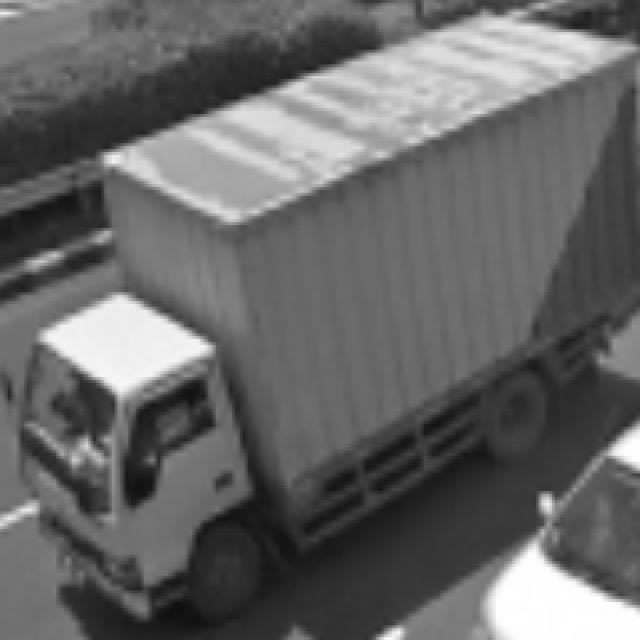truck: (1, 274, 288, 639)
